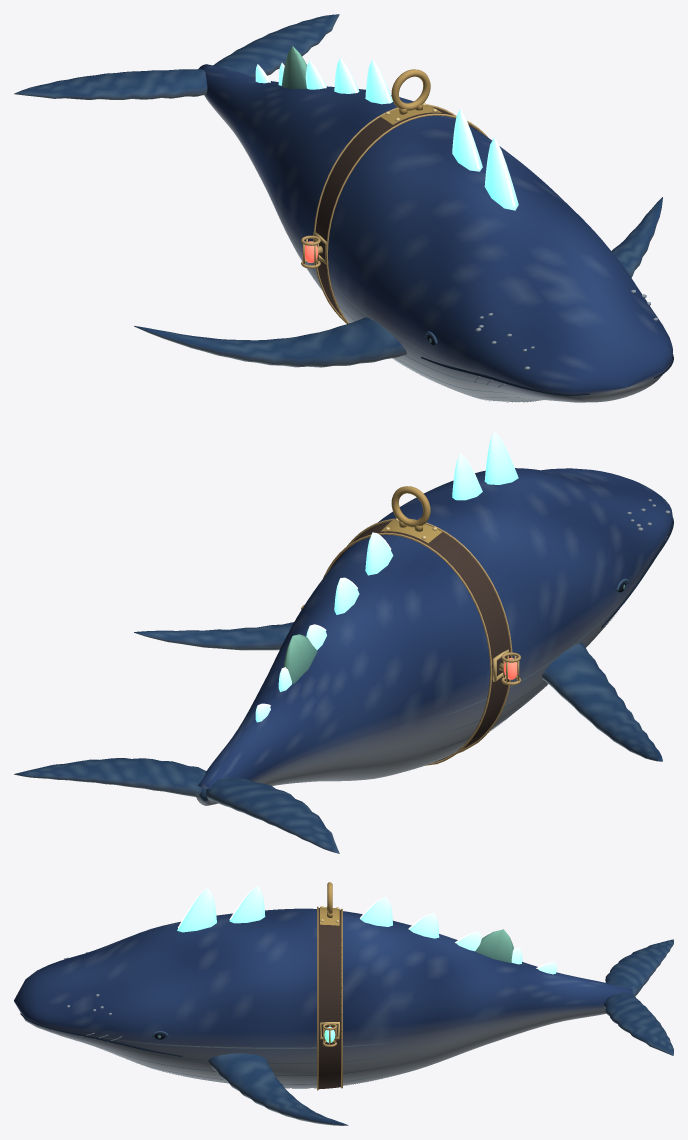
File: ballena-celeste-C_Xpe9-q.glb
3 renders of one model, top to bottom at view 1: azimuth 30°, elevation 25°; view 2: azimuth 150°, elevation 25°; view 3: azimuth 270°, elevation 25°, orthographic. The views are drawn at different scales.
Parts seen in each view (by area): view 1: Ballena_Cuerpo_Central, Aleta_Cola, Aleta_Pectoral_Izq, Aleta_Pectoral_Der; view 2: Ballena_Cuerpo_Central, Aleta_Cola, Aleta_Pectoral_Izq, Aleta_Pectoral_Der; view 3: Ballena_Cuerpo_Central, Aleta_Cola, Aleta_Pectoral_Der.
Boxes of the visible parts, x1,y1,x2,y2 form: Ballena_Cuerpo_Central: [198, 45, 673, 402]; Aleta_Cola: [14, 14, 339, 99]; Aleta_Pectoral_Izq: [134, 317, 406, 367]; Aleta_Pectoral_Der: [611, 197, 662, 277]; Ballena_Cuerpo_Central: [196, 431, 673, 805]; Aleta_Cola: [14, 758, 339, 853]; Aleta_Pectoral_Izq: [542, 643, 662, 761]; Aleta_Pectoral_Der: [134, 622, 293, 650]; Ballena_Cuerpo_Central: [14, 882, 632, 1090]; Aleta_Cola: [603, 939, 673, 1055]; Aleta_Pectoral_Der: [208, 1053, 348, 1125].
Size of the model in its own units: 17 by 8.41 by 25.07.
